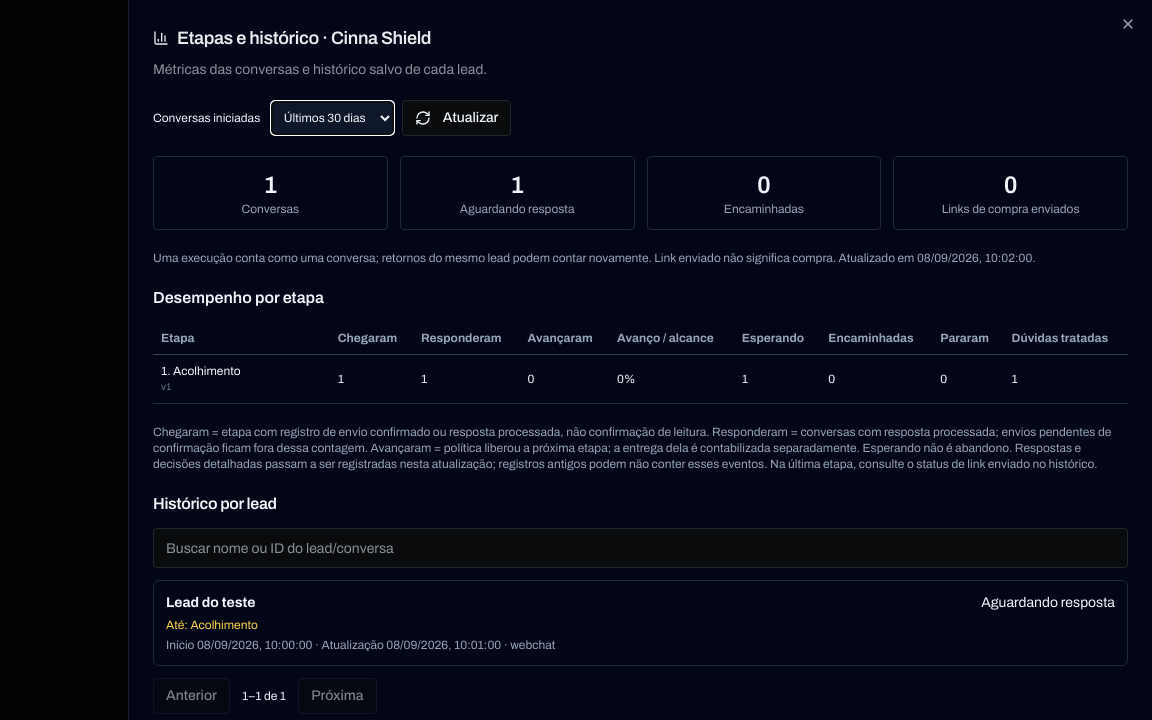
Test: Cinna journey panel › opens a lead's persisted conversation with stage, audio controls and older pages
The width and height of the screenshot is (1152, 720).
Later steps or results of the test are not shown.
Click the button "Lead do teste" at (211, 602), box [153, 580, 1128, 666]
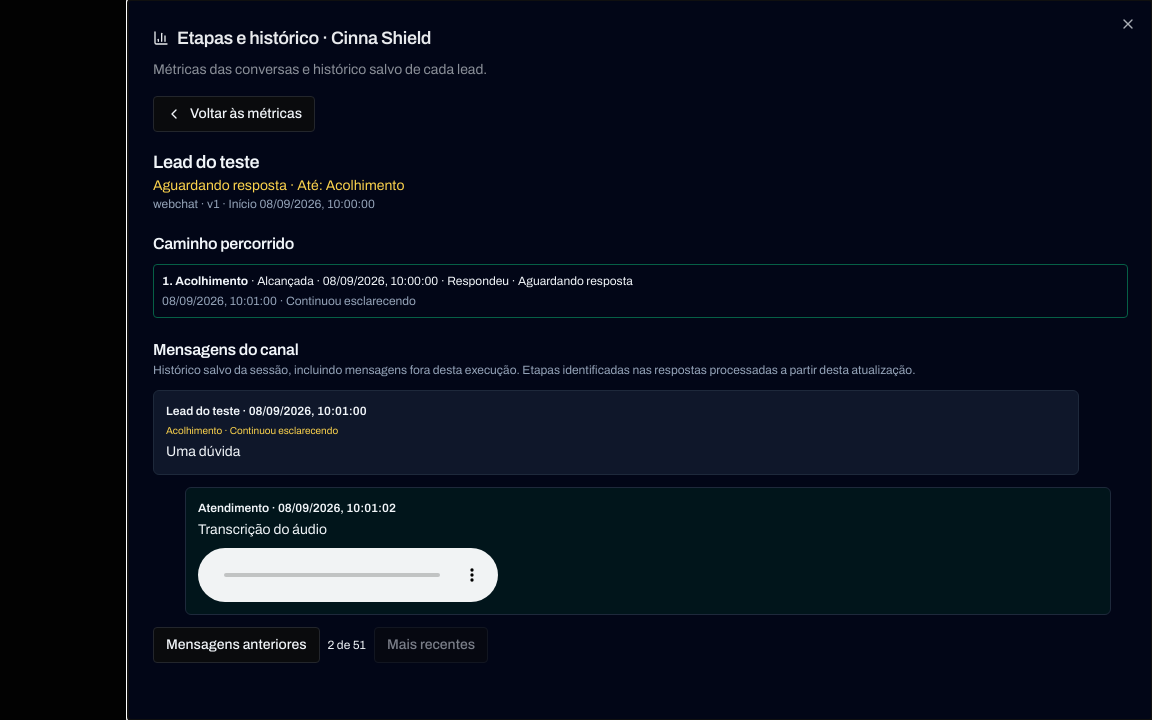
Check: the text "Uma dúvida" is shown, box [166, 444, 240, 459]
Check: the text "Transcrição do áudio" is shown, box [198, 522, 327, 537]
